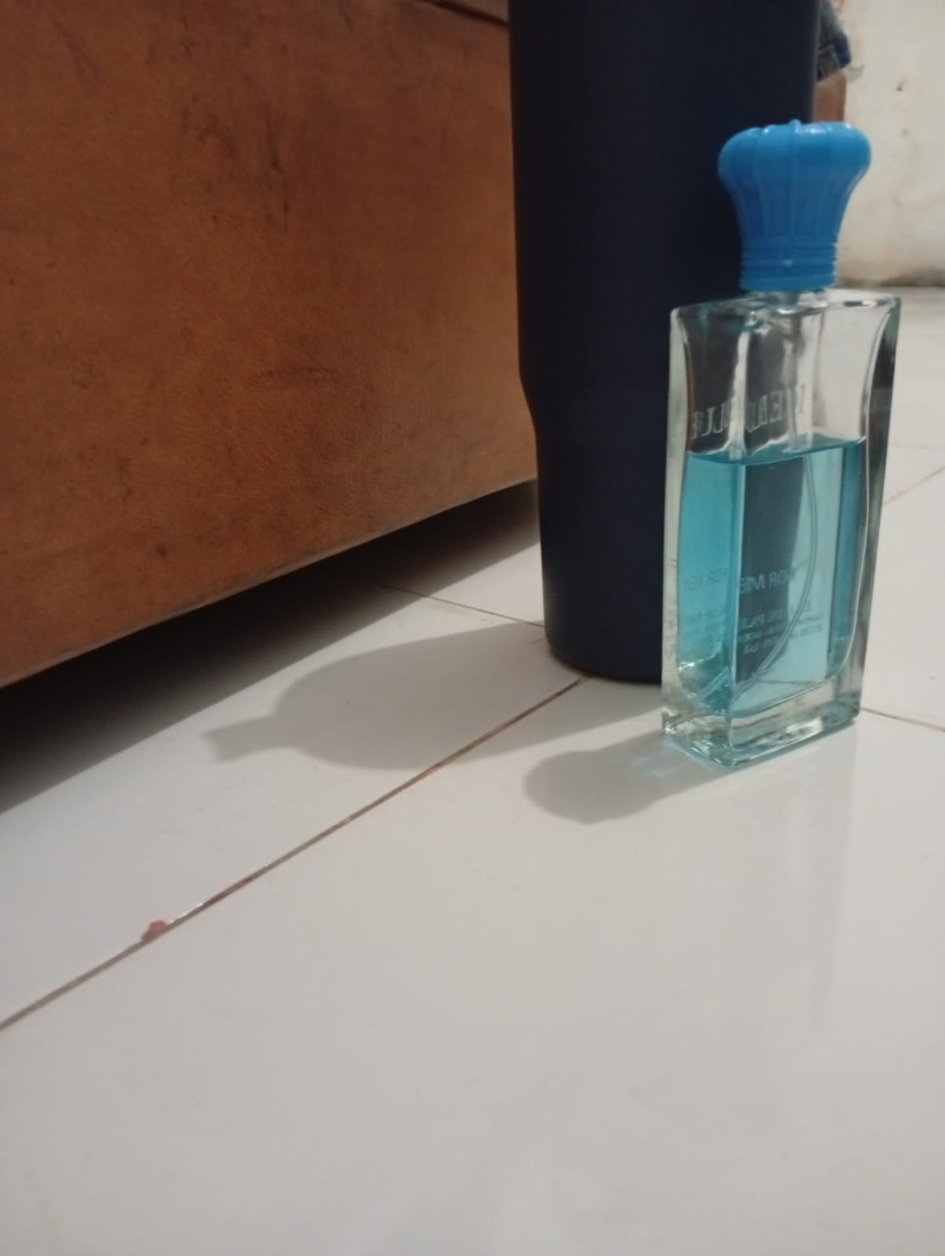Parfum: (624, 115, 910, 772)
Tupperware: (501, 0, 870, 712)
